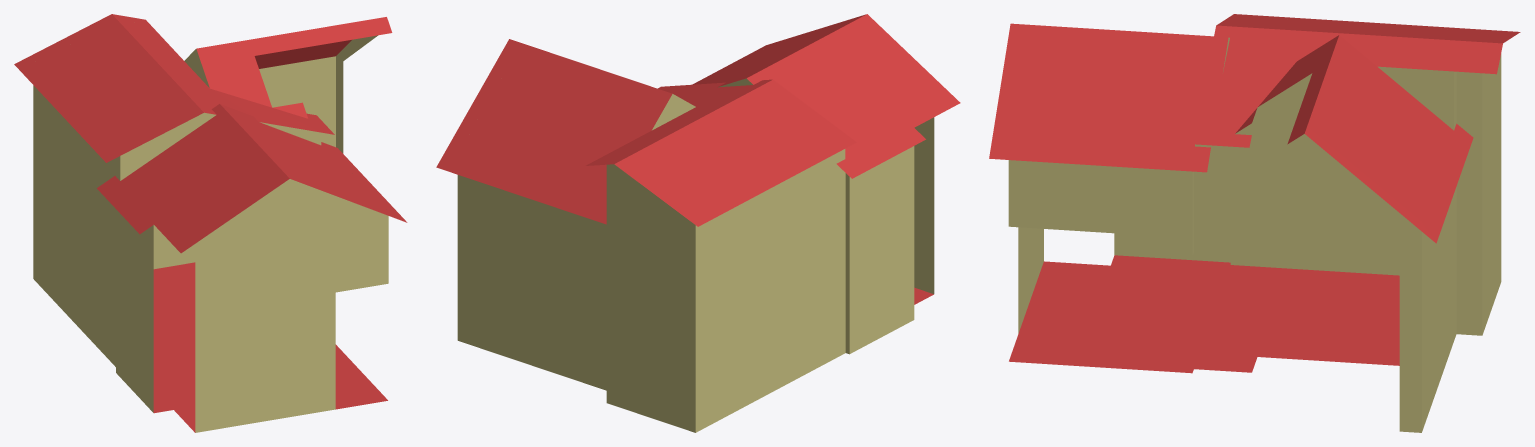
3 renders of one model, left to right at view 1: azimuth 30°, elevation 25°; view 2: azimuth 150°, elevation 25°; view 3: azimuth 270°, elevation 25°, orthographic. The views are drawn at different scales.
Bounding box in the file's own units: 19.84 × 23.08 × 14.33.
